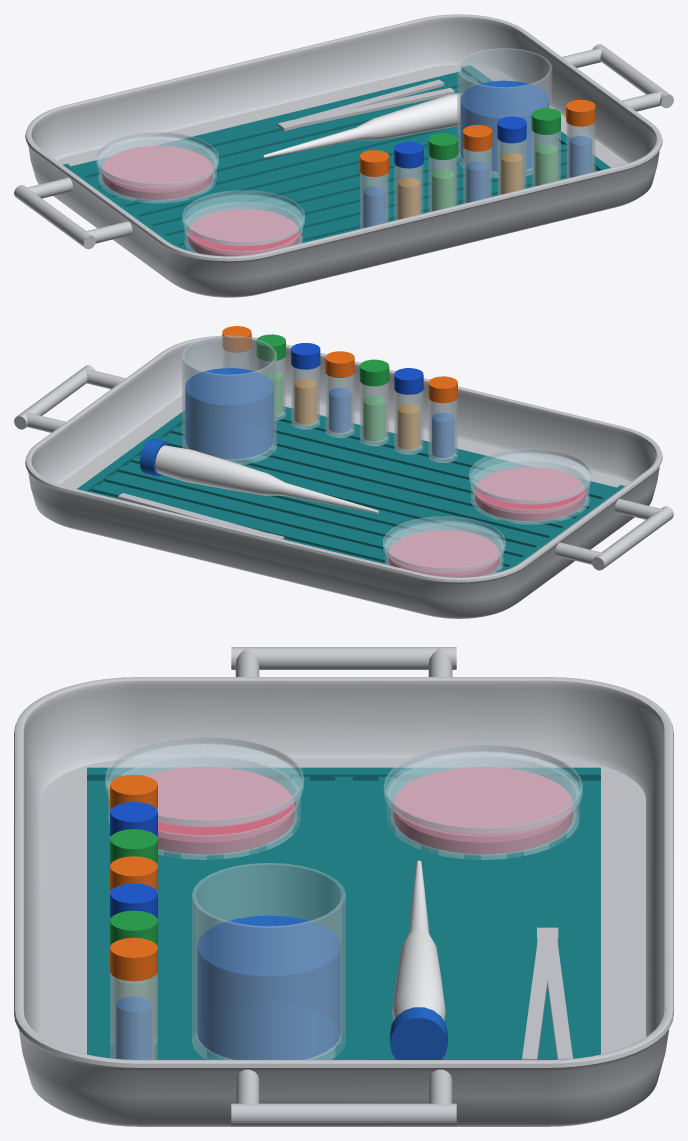
The model's file is lab_tray.fbx.
3 views of the same model, one above another, from view 1: azimuth 30°, elevation 25°; view 2: azimuth 150°, elevation 25°; view 3: azimuth 270°, elevation 25° (orthographic). The views are drawn at different scales.
Parts seen in each view (by area): view 1: Tray_Body, Tray_Insert, Petri_Dishes_Glass_Lab, Vials_Vial_Glass, Petri_Dishes_Agar_Pink, Beaker_Glass_Lab, Beaker_Liquid_Blue, Pipette_Plastic_White, Tray_Handle_Left_Mesh, Vials_Liquid_Blue, Tweezers, Vials_Cap_Orange (+5 smaller); view 2: Tray_Body, Tray_Insert, Petri_Dishes_Glass_Lab, Beaker_Glass_Lab, Vials_Vial_Glass, Petri_Dishes_Agar_Pink, Beaker_Liquid_Blue, Pipette_Plastic_White, Tray_Handle_Left_Mesh, Tray_Handle_Right_Mesh, Vials_Cap_Orange, Vials_Liquid_Amber (+6 smaller); view 3: Tray_Body, Tray_Insert, Petri_Dishes_Glass_Lab, Beaker_Glass_Lab, Petri_Dishes_Agar_Pink, Beaker_Liquid_Blue, Tray_Handle_Right_Mesh, Tray_Handle_Left_Mesh, Vials_Cap_Orange, Pipette_Plastic_White, Vials_Vial_Glass, Tweezers (+4 smaller).
Boxes of the visible parts, x1,y1,x2,y2 form: Tray_Body: (25,14,662,297); Tray_Insert: (62,65,610,252); Petri_Dishes_Glass_Lab: (96,132,304,256); Vials_Vial_Glass: (360,122,595,228); Petri_Dishes_Agar_Pink: (102,146,299,256); Beaker_Glass_Lab: (457,48,552,177); Beaker_Liquid_Blue: (460,80,548,171); Pipette_Plastic_White: (262,93,462,158); Tray_Handle_Left_Mesh: (14,177,132,249); Vials_Liquid_Blue: (363,136,591,227); Tweezers: (277,79,454,130); Vials_Cap_Orange: (359,99,595,176); Tray_Body: (25,335,662,618); Tray_Insert: (77,406,624,573); Petri_Dishes_Glass_Lab: (383,448,591,577); Beaker_Glass_Lab: (182,335,276,464); Vials_Vial_Glass: (222,349,457,462); Petri_Dishes_Agar_Pink: (388,467,585,577); Beaker_Liquid_Blue: (185,368,273,459); Pipette_Plastic_White: (155,445,378,513); Tray_Handle_Left_Mesh: (555,499,673,570); Tray_Handle_Right_Mesh: (14,365,125,432); Vials_Cap_Orange: (222,326,457,403); Vials_Liquid_Amber: (294,379,419,449); Tray_Body: (14,677,673,1126); Tray_Insert: (87,767,600,1059); Petri_Dishes_Glass_Lab: (105,736,582,859); Beaker_Glass_Lab: (192,863,345,1059); Petri_Dishes_Agar_Pink: (146,766,573,854); Beaker_Liquid_Blue: (197,915,340,1059); Tray_Handle_Right_Mesh: (231,1069,456,1126); Tray_Handle_Left_Mesh: (231,647,456,676); Vials_Cap_Orange: (110,774,157,981); Pipette_Plastic_White: (392,860,445,1020); Vials_Vial_Glass: (110,810,157,1059); Tweezers: (522,927,572,1059).
Size of the model in its own units: 51.5 by 8.15 by 30.8.
